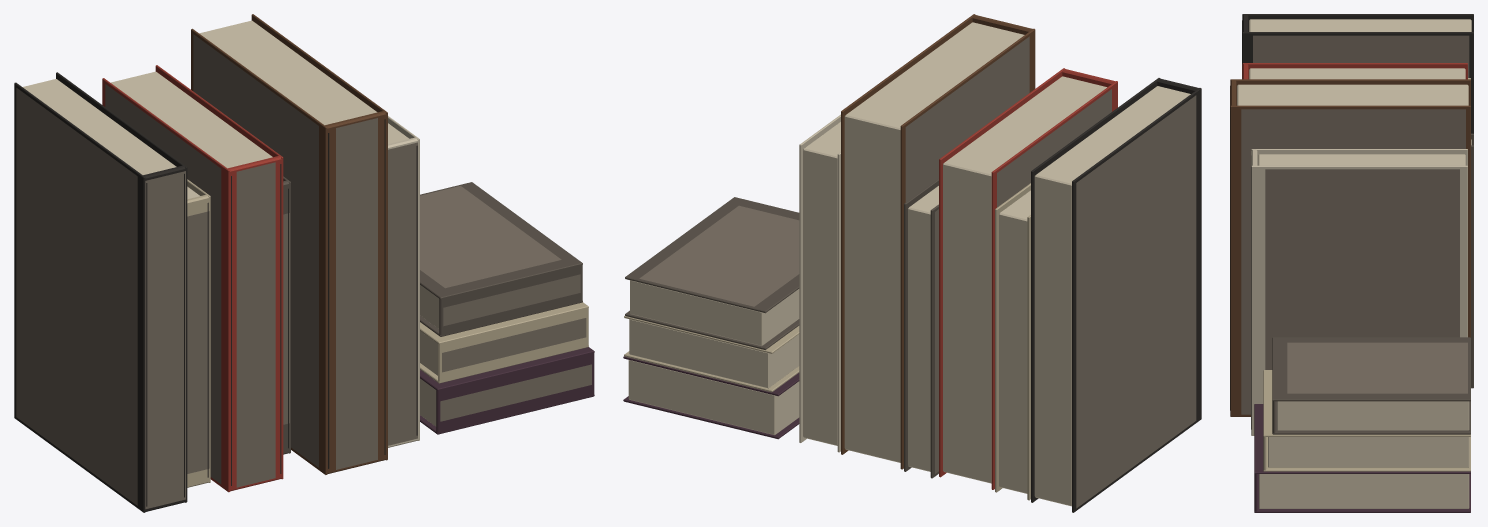
Rendered from bedroom-book-row-d9feb960dd9f.glb.
3 views of the same model, side by side, from view 1: azimuth 30°, elevation 25°; view 2: azimuth 150°, elevation 25°; view 3: azimuth 270°, elevation 25° (orthographic). The views are drawn at different scales.
Parts seen in each view (by area): view 1: book-print, paper, speaker-cloth, wood-walnut-dark, accent-warm, fabric, enamel-beige, cloth-plum, cloth-cream; view 2: paper, book-print, speaker-cloth, fabric, wood-walnut-dark, accent-warm, enamel-beige, cloth-cream, cloth-plum; view 3: book-print, paper, cloth-cream, wood-walnut-dark, fabric, speaker-cloth, enamel-beige, cloth-plum, accent-warm.
Boxes of the visible parts, x1,y1,x2,y2 form: book-print: [16, 34, 591, 509]; paper: [22, 20, 439, 426]; speaker-cloth: [14, 72, 417, 512]; wood-walnut-dark: [191, 14, 387, 474]; accent-warm: [102, 65, 283, 492]; fabric: [283, 176, 582, 454]; enamel-beige: [187, 179, 588, 487]; cloth-plum: [420, 347, 594, 434]; cloth-cream: [388, 116, 419, 447]; paper: [628, 22, 1190, 506]; book-print: [639, 36, 1196, 508]; speaker-cloth: [1031, 78, 1201, 512]; fabric: [625, 178, 938, 478]; wood-walnut-dark: [841, 14, 1035, 469]; accent-warm: [939, 68, 1117, 489]; enamel-beige: [624, 183, 1030, 500]; cloth-cream: [799, 114, 840, 452]; cloth-plum: [623, 356, 799, 439]; book-print: [1241, 35, 1469, 414]; paper: [1237, 19, 1471, 508]; cloth-cream: [1251, 149, 1467, 435]; wood-walnut-dark: [1230, 79, 1470, 416]; fabric: [1272, 133, 1473, 434]; speaker-cloth: [1230, 14, 1473, 429]; enamel-beige: [1263, 78, 1470, 471]; cloth-plum: [1254, 404, 1470, 512]; accent-warm: [1242, 63, 1467, 79].
Bounding box in the file's own units: 0.3141 × 0.2281 × 0.1622.
